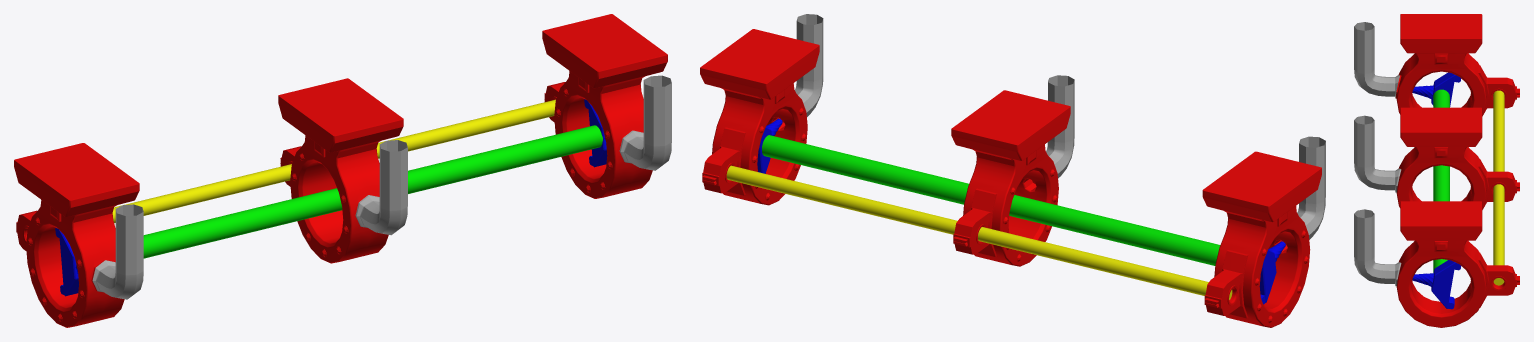
Rendered from ModuleCNewGen.fbx.
3 views of the same model, side by side, from view 1: azimuth 30°, elevation 25°; view 2: azimuth 150°, elevation 25°; view 3: azimuth 270°, elevation 25° (orthographic). The views are drawn at different scales.
Parts seen in each view (by area): view 1: polySurface661, polySurface659, polySurface657, polySurface660, polySurface650, polySurface656, polySurface654; view 2: polySurface661, polySurface659, polySurface657, polySurface650, polySurface656, polySurface660, polySurface654; view 3: polySurface657, polySurface659, polySurface661, polySurface660, polySurface656, polySurface654, polySurface650.
Boxes of the visible parts, x1,y1,x2,y2 form: polySurface661: (14, 143, 139, 327); polySurface659: (278, 78, 403, 263); polySurface657: (542, 14, 667, 198); polySurface660: (92, 75, 671, 299); polySurface650: (143, 125, 602, 258); polySurface656: (112, 99, 555, 223); polySurface654: (55, 99, 607, 296); polySurface661: (1202, 151, 1321, 327); polySurface659: (951, 90, 1070, 266); polySurface657: (700, 29, 819, 205); polySurface650: (762, 135, 1220, 265); polySurface656: (726, 165, 1232, 299); polySurface660: (795, 14, 1325, 239); polySurface654: (757, 118, 1285, 304); polySurface657: (1396, 201, 1519, 327); polySurface659: (1396, 107, 1519, 209); polySurface661: (1395, 14, 1519, 116); polySurface660: (1354, 22, 1401, 286); polySurface656: (1493, 90, 1504, 285); polySurface654: (1412, 72, 1461, 309); polySurface650: (1433, 89, 1449, 272).
Size of the model in its own units: 1246 by 294 by 411.
